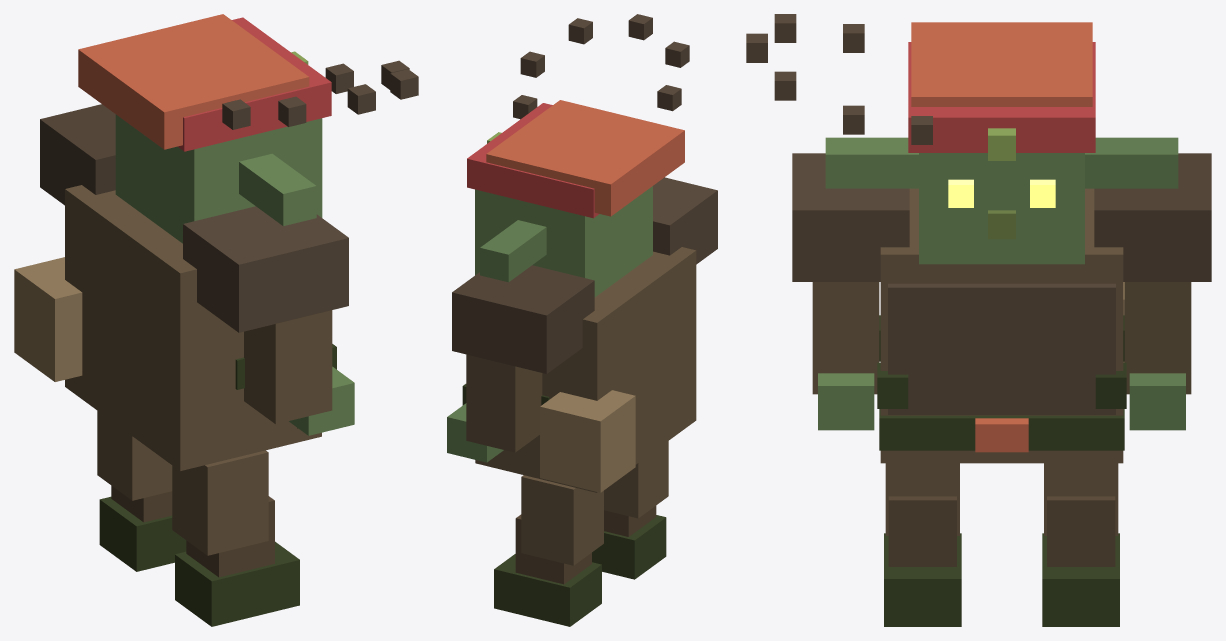
File: goblin-slinger.glb
The picture shows the model from 3 angles, left to right: view 1: azimuth 30°, elevation 25°; view 2: azimuth 150°, elevation 25°; view 3: azimuth 270°, elevation 25°; orthographic projection. The views are drawn at different scales.
Visible parts, largest first — view 1: Torso, Boots, Shoulders, Crest, Head, Arms, Pouch, Headband, Sling, Ears, Hands; view 2: Torso, Boots, Shoulders, Crest, Head, Pouch, Arms, Headband, Sling, Ears, Hands; view 3: Armor, Boots, Shoulders, Head, Crest, Arms, Torso, Ears, Headband, Hands, Sling, Trim (+2 smaller).
Part boxes in pixels (box(x1,y1,x2,y2)): Torso: box(65, 185, 321, 471); Boots: box(97, 411, 299, 626); Shoulders: box(40, 104, 348, 332); Crest: box(78, 14, 309, 149); Head: box(115, 114, 322, 243); Arms: box(244, 310, 332, 424); Pouch: box(14, 257, 82, 381); Headband: box(177, 17, 331, 151); Sling: box(222, 60, 418, 129); Ears: box(239, 153, 316, 226); Hands: box(289, 366, 354, 435); Torso: box(475, 247, 696, 492); Boots: box(494, 441, 668, 626); Shoulders: box(452, 177, 717, 373); Crest: box(486, 100, 684, 216); Head: box(475, 186, 652, 297); Pouch: box(540, 390, 635, 492); Arms: box(466, 354, 542, 452); Headband: box(467, 103, 598, 218); Sling: box(513, 14, 689, 119); Ears: box(480, 220, 546, 282); Hands: box(447, 403, 503, 462); Armor: box(879, 283, 1124, 450); Boots: box(884, 463, 1119, 626); Shoulders: box(792, 153, 1211, 281); Head: box(919, 153, 1084, 264); Crest: box(911, 22, 1092, 106); Arms: box(812, 282, 1191, 394); Torso: box(880, 188, 1123, 463); Ears: box(825, 137, 1178, 188); Headband: box(908, 42, 1095, 152); Hands: box(818, 373, 1185, 430); Sling: box(746, 14, 932, 144); Trim: box(975, 128, 1028, 452).
Bounding box in the file's own units: 1.87 × 4.17 × 2.99.
